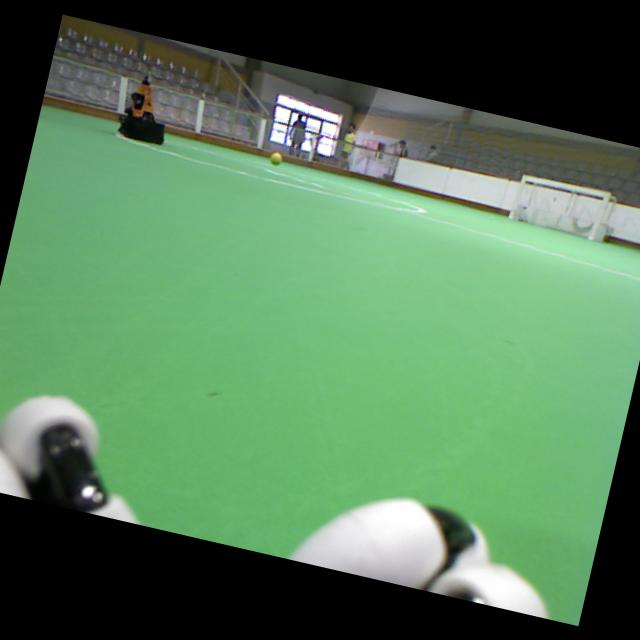ball: (268, 152, 280, 165)
goal: (589, 190, 610, 238), (507, 175, 528, 218)
robot: (117, 63, 163, 143)
